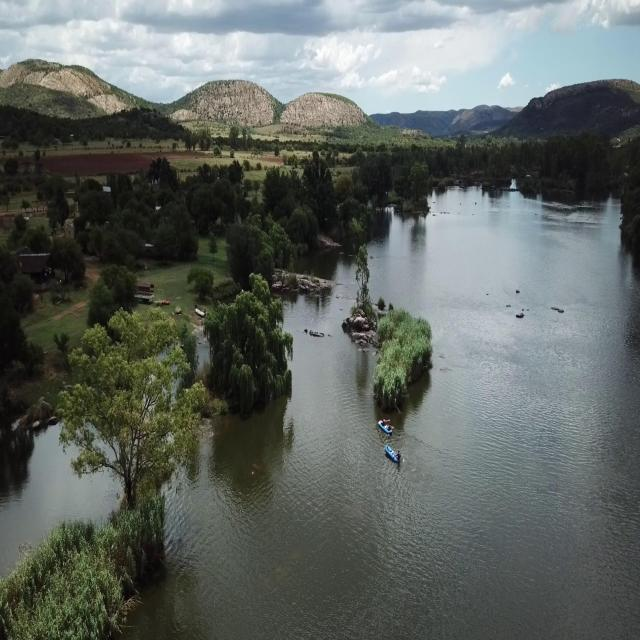kayak: (385, 441, 402, 467), (377, 416, 395, 438)
